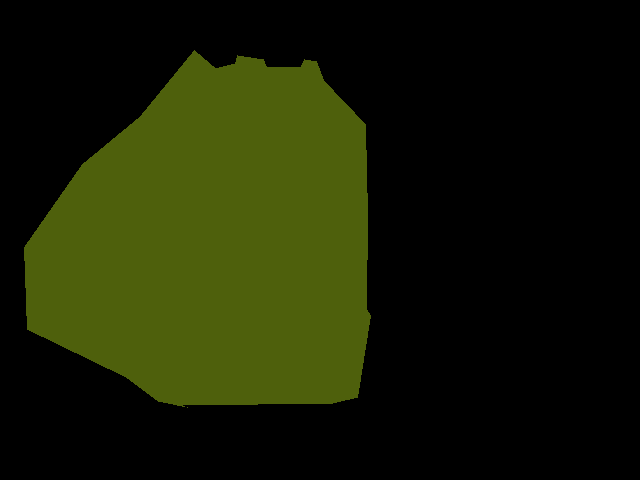Train: (24, 50, 370, 408)
